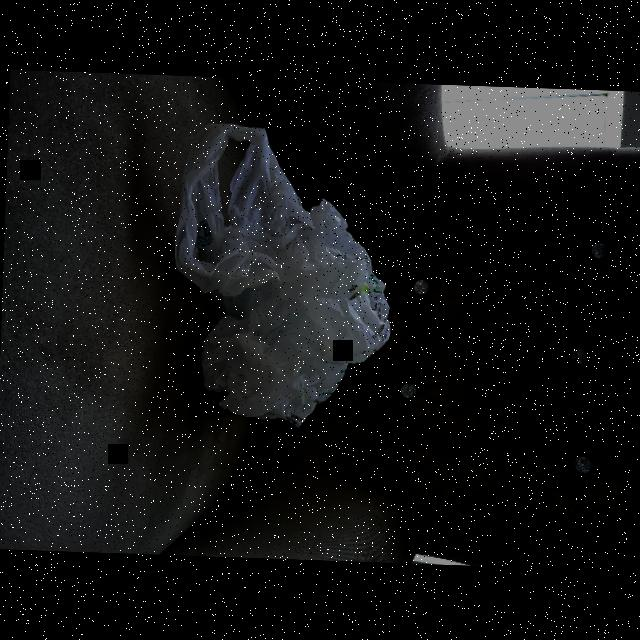plastic_bag: (163, 122, 396, 429)
